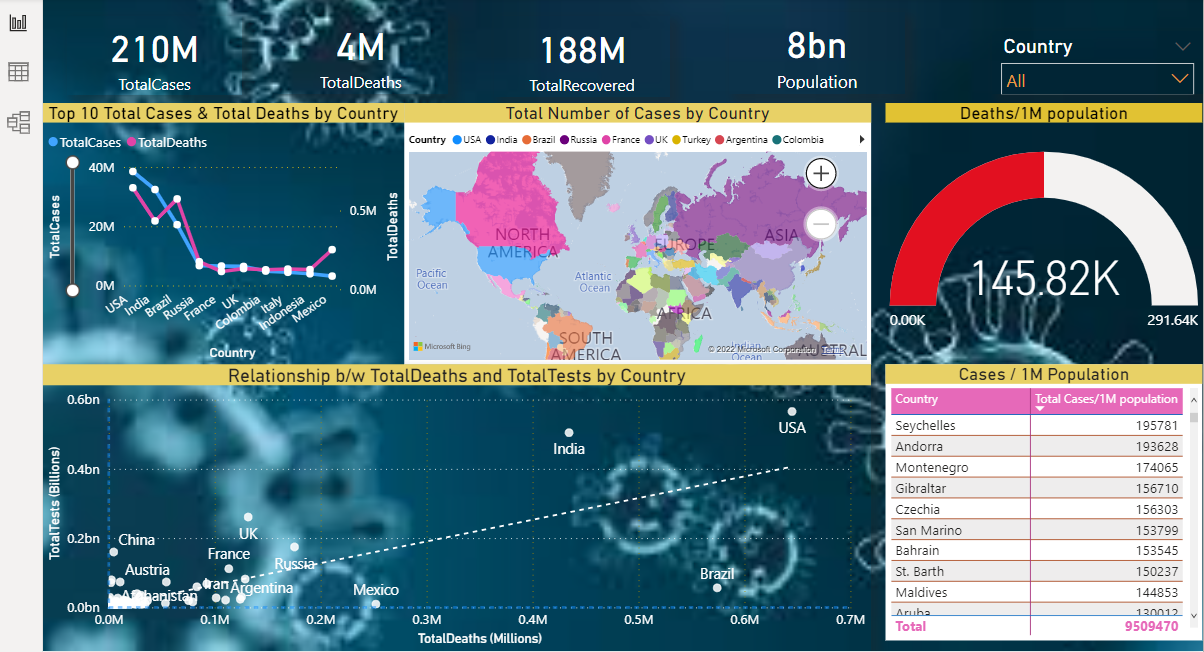

The dashboard page shown, as its layout file describes it:
{"tool":"powerbi","page":{"name":"Page 2","canvas":[1280,720],"ordinal":1},"visuals":[{"type":"card","fields":{"Values":["Sum(Table 2.TotalCases)"]},"box":[26.3,19.1,193.4,87.2],"z":0},{"type":"card","fields":{"Values":["Sum(Table 2.TotalDeaths)"]},"box":[254.3,15.5,193.4,90.7],"z":1000},{"type":"card","fields":{"Values":["Sum(Table 2.TotalRecovered)"]},"box":[497.9,19.1,193.4,90.7],"z":2000},{"type":"slicer","fields":{"Values":["Table 2.Country"]},"box":[1047.2,35.8,232.8,70.4],"z":3000},{"type":"card","fields":{"Values":["Sum(Table 2.Population)"]},"box":[757,15.5,193.4,90.7],"z":4000},{"type":"filledMap","title":"Total Number of Cases by Country","fields":{"Category":["Table 2.Country"],"Series":["Table 2.Country"]},"box":[398.3,115.4,515,288.4],"z":5000},{"type":"lineChart","title":"Top 10 Total Cases & Total Deaths by Country","fields":{"Category":["Table 2.Country"],"Y":["Sum(Table 2.TotalCases)"],"Y2":["Sum(Table 2.TotalDeaths)"]},"box":[0,115.4,398.3,288.4],"z":6000},{"type":"scatterChart","title":"Relationship b/w TotalDeaths and TotalTests by Country","fields":{"Category":["Table 2.Country"],"Y":["Sum(Table 2.TotalTests)"],"X":["Sum(Table 2.TotalDeaths)"]},"box":[0,403.8,913.3,315.9],"z":7000},{"type":"tableEx","title":"Cases / 1M Population","fields":{"Values":["Table 2.Country","Sum(Table 2.Total Cases/1M population)"]},"box":[930.1,403.6,349.9,304.5],"z":8000},{"type":"gauge","title":"Deaths/1M population","fields":{"Y":["Sum(Table 2.Deaths/1M pop)"]},"box":[930.1,115.8,349.9,287.8],"z":9000}]}

Visuals, with their boxes in screenshot pixels (x1, y1, x2, y2):
card - Sum(Table 2.TotalCases): detection(74, 17, 246, 95)
card - Sum(Table 2.TotalDeaths): detection(277, 14, 450, 95)
card - Sum(Table 2.TotalRecovered): detection(495, 17, 668, 98)
slicer - Table 2.Country: detection(986, 32, 1194, 95)
card - Sum(Table 2.Population): detection(726, 14, 899, 95)
"Total Number of Cases by Country" filledMap: detection(406, 103, 866, 361)
"Top 10 Total Cases & Total Deaths by Country" lineChart: detection(50, 103, 406, 361)
"Relationship b/w TotalDeaths and TotalTests by Country" scatterChart: detection(50, 361, 866, 643)
"Cases / 1M Population" tableEx: detection(881, 361, 1194, 633)
"Deaths/1M population" gauge: detection(881, 103, 1194, 361)
